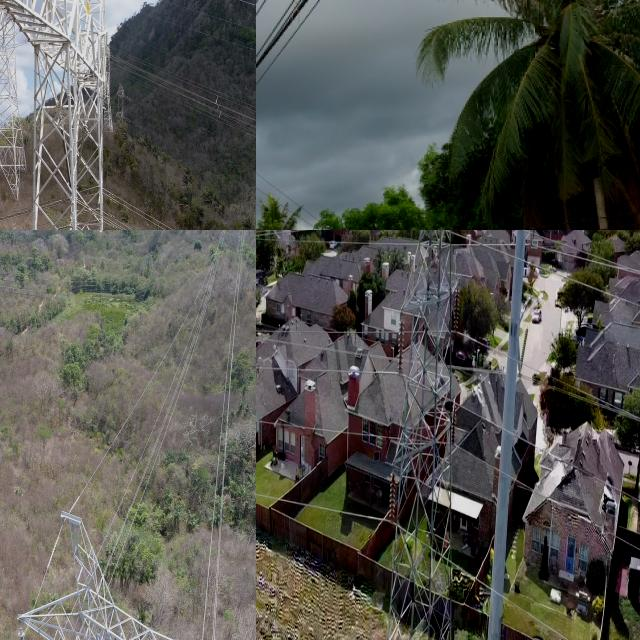杆塔: (5, 484, 256, 640), (381, 230, 462, 640), (0, 0, 122, 230)
正常绝缘子: (388, 468, 398, 529), (396, 313, 404, 377), (449, 397, 458, 449), (452, 280, 460, 336)
